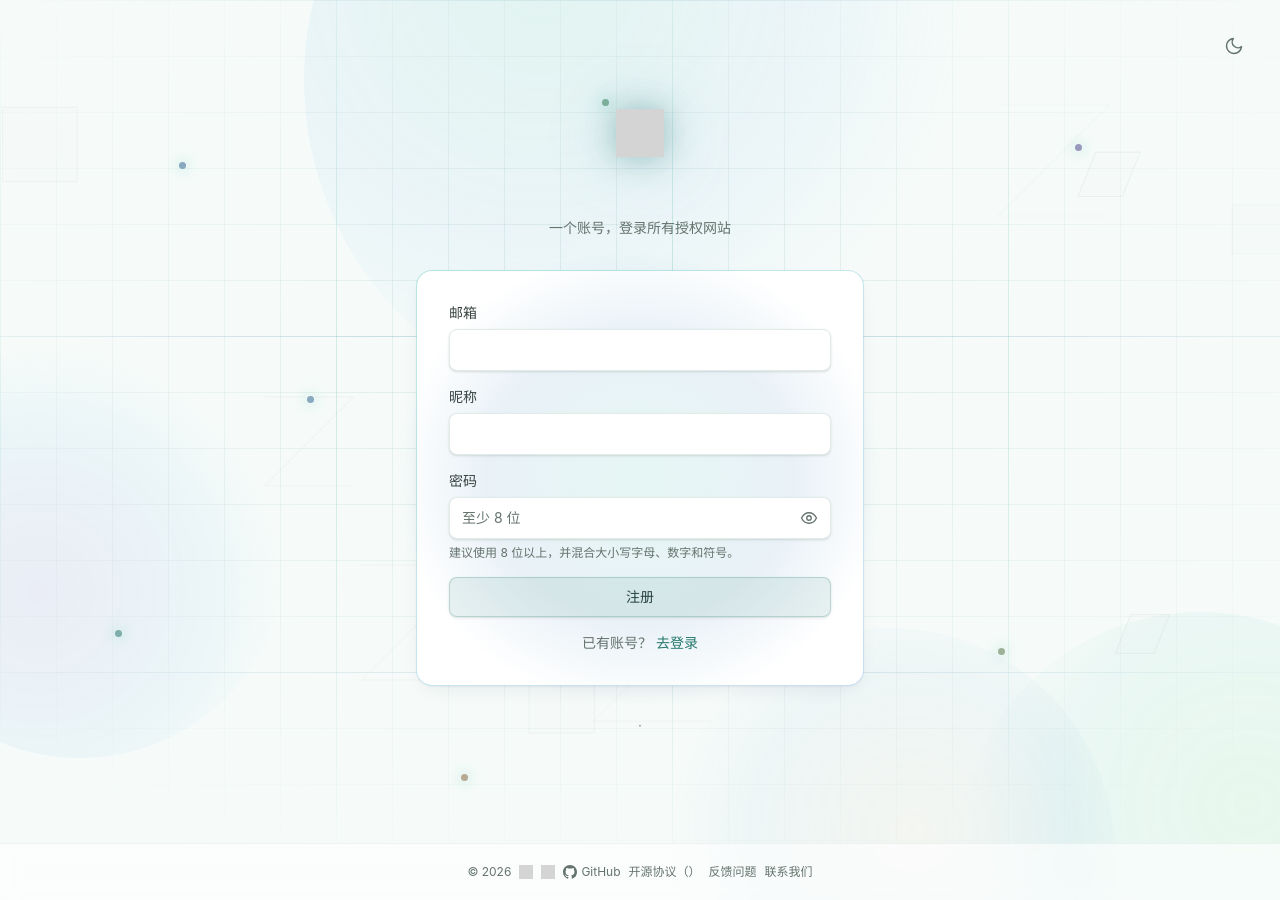
Scenario: RegisterPage › 提交注册请求并跳转到登录页
Type "a@example.com" into the field labelled "邮箱" at [640, 350], box [449, 329, 831, 371]
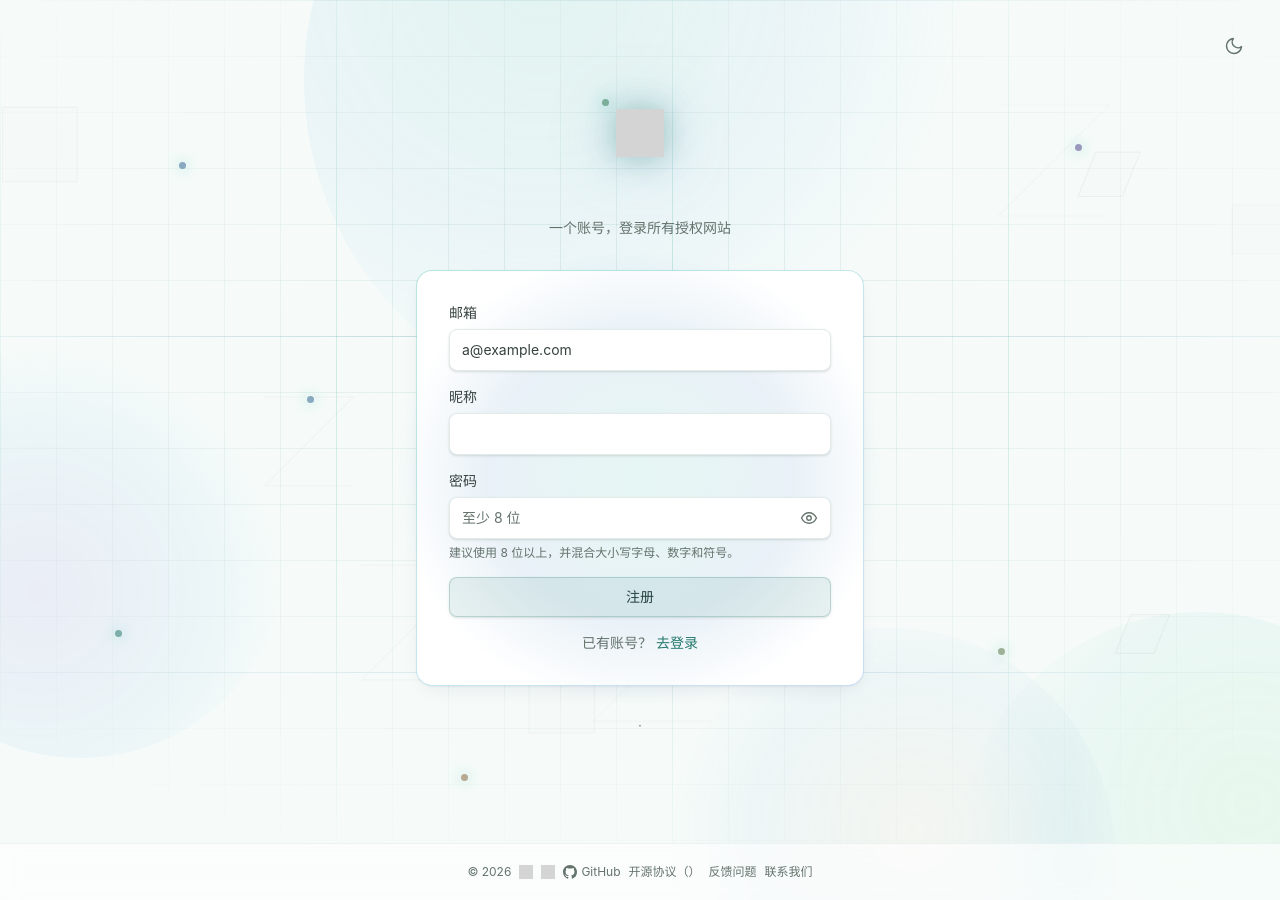
Type "Alice" into the field labelled "昵称" at [640, 434], box [449, 413, 831, 455]
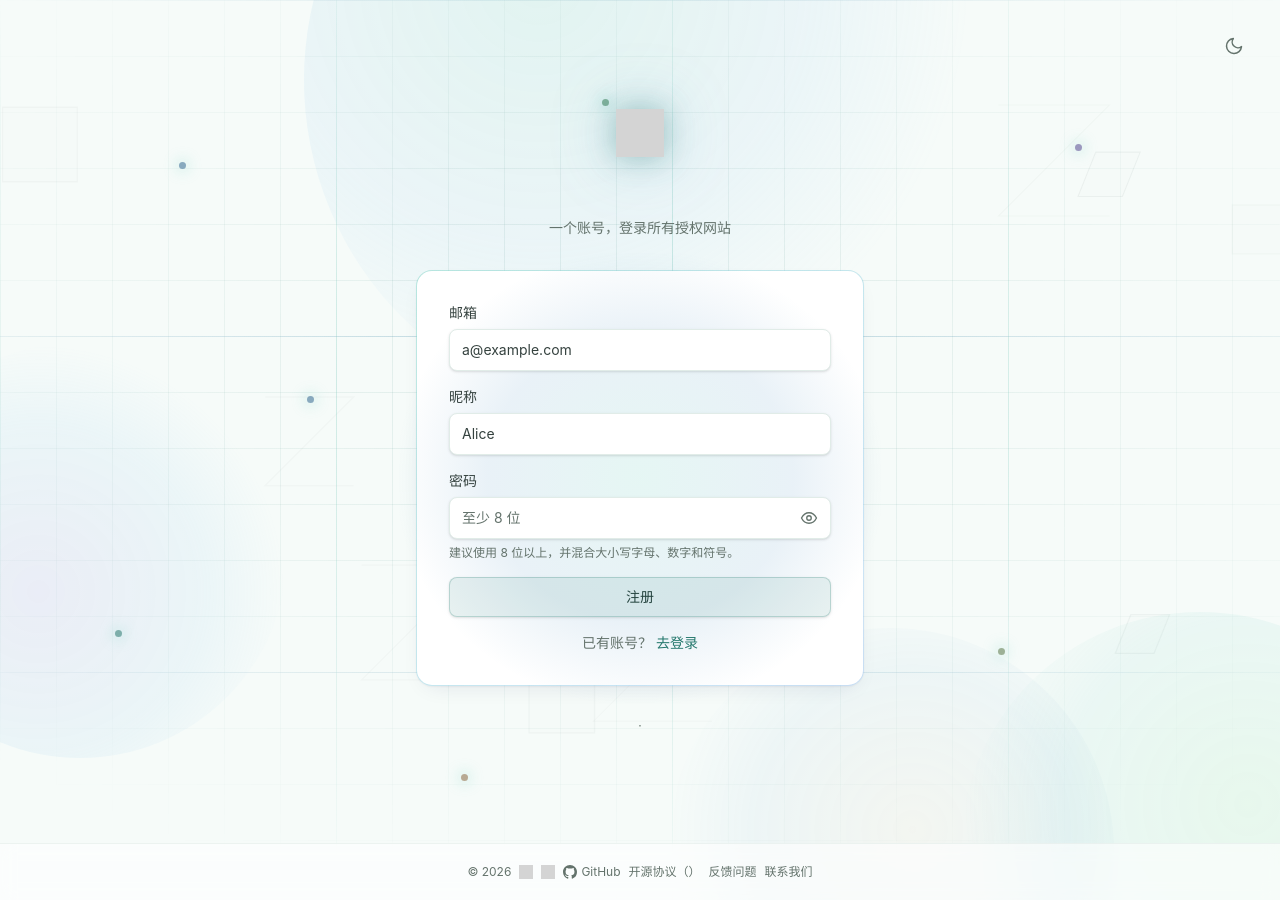
Type "password123" into the password field labelled "密码" at [640, 518], box [449, 497, 831, 539]
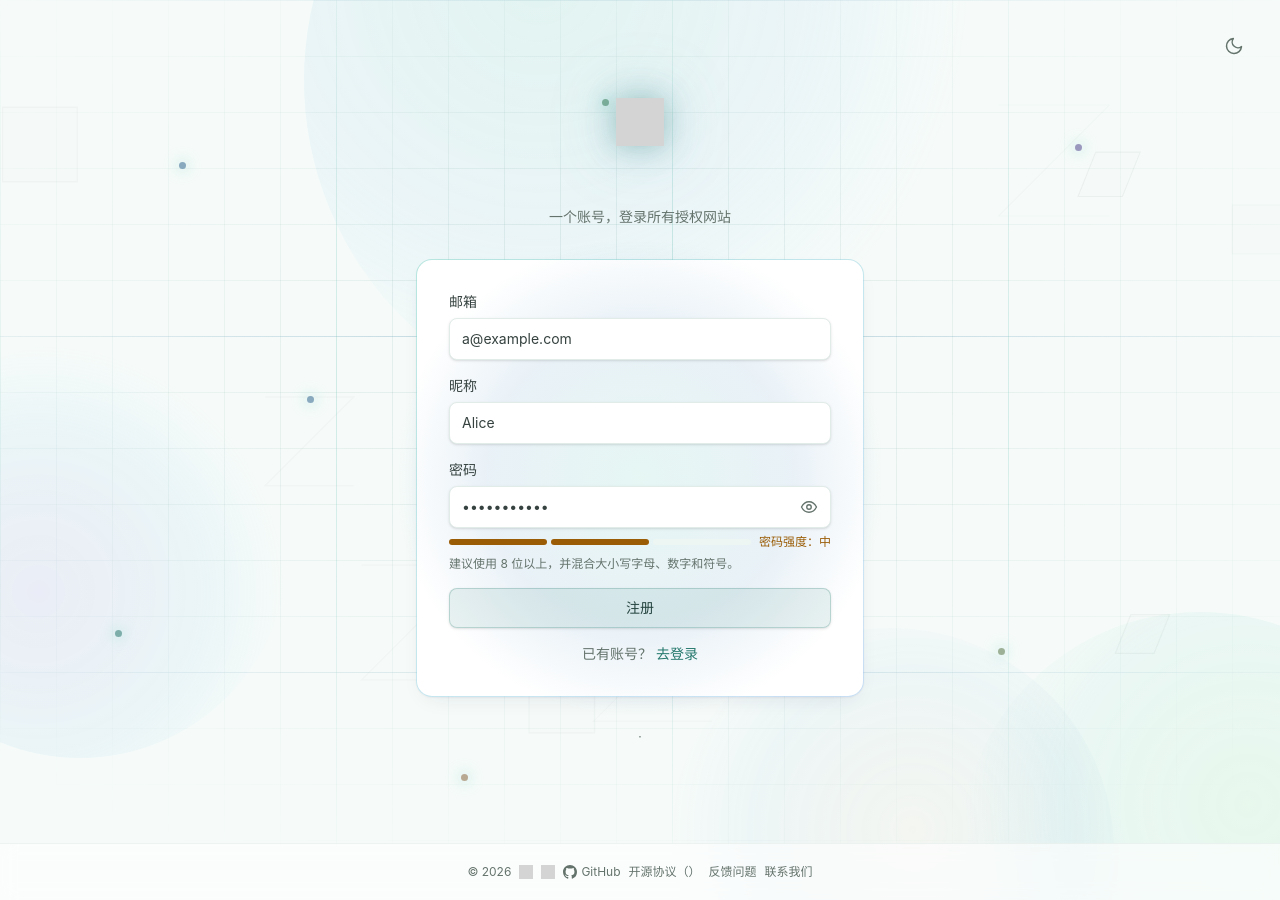
Click the button "注册" at [640, 608], box [449, 588, 831, 628]
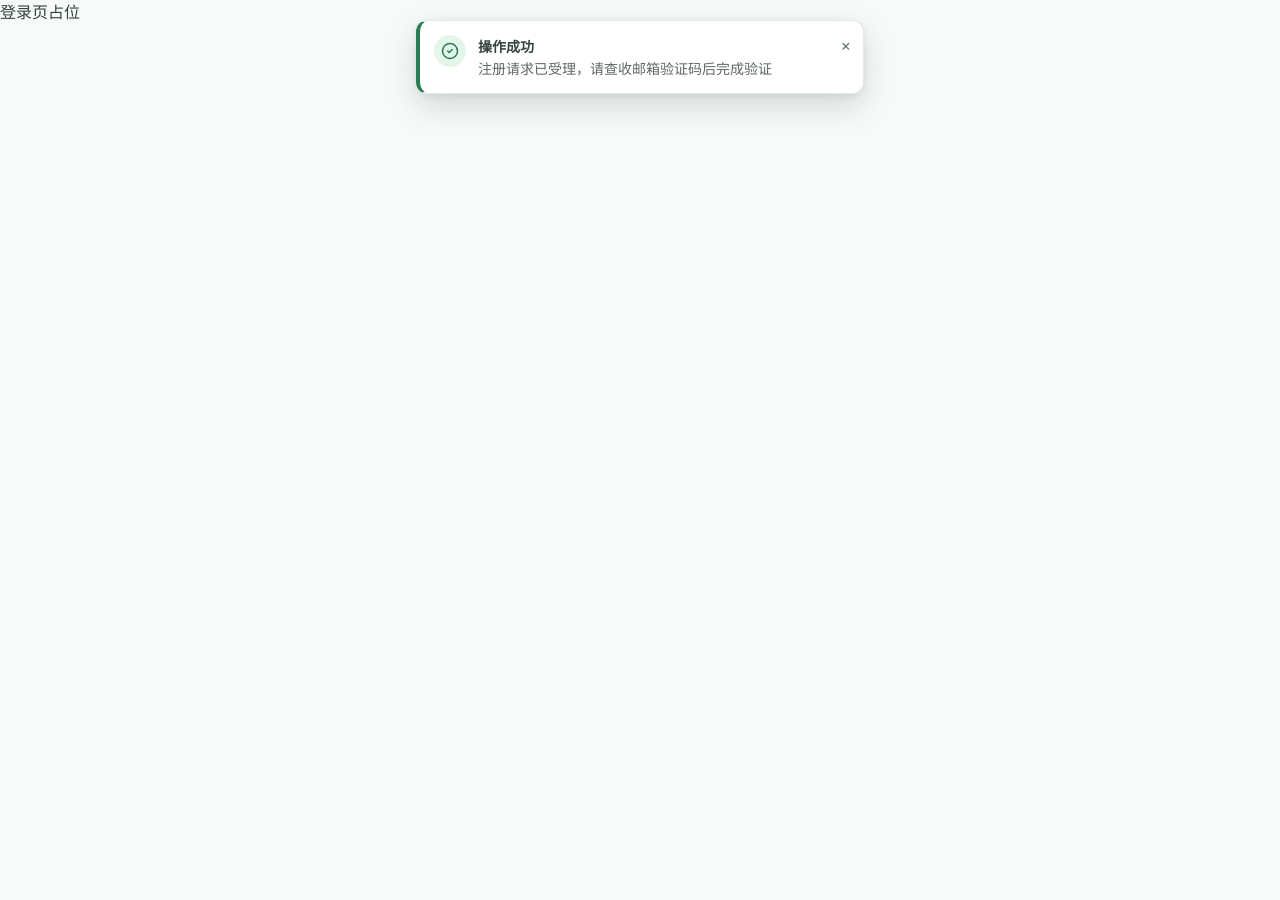
Expected: the text "登录页占位" is shown, [0, 2, 80, 22]
